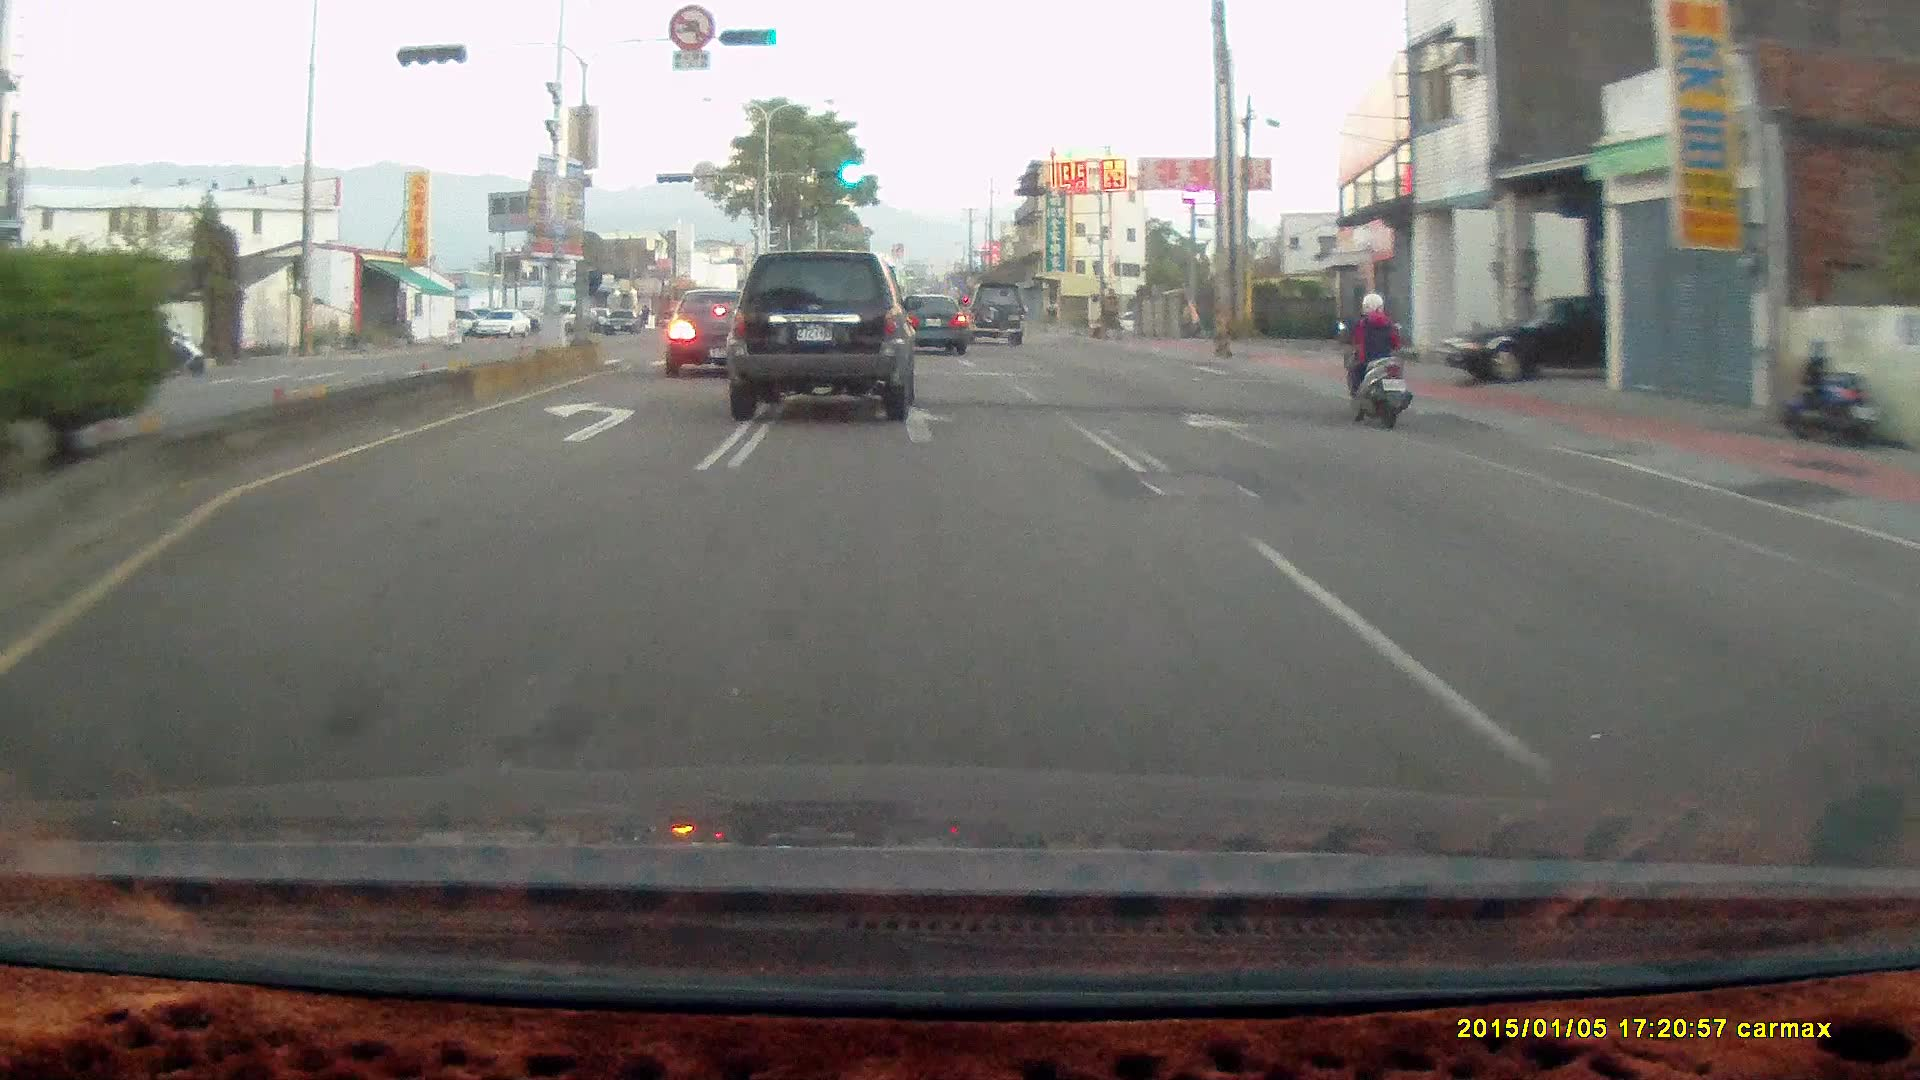rider: (1328, 281, 1426, 438), (1335, 286, 1412, 423)
vehicle: (732, 254, 926, 434), (726, 250, 923, 420), (1437, 292, 1681, 382), (1437, 293, 1620, 382), (667, 286, 777, 375), (663, 288, 772, 375), (889, 290, 967, 352), (894, 292, 970, 354), (960, 282, 1029, 348), (960, 278, 1026, 342), (471, 305, 531, 337), (534, 301, 588, 328), (603, 307, 641, 331)
